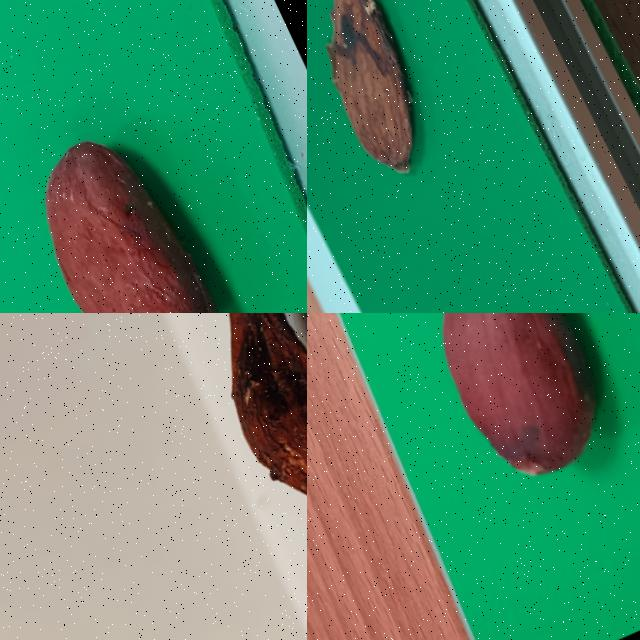Fine_cocoabeans: (0, 0, 306, 312), (336, 313, 639, 562)
Flat_cocoabeans: (307, 0, 513, 274), (111, 313, 306, 576)
